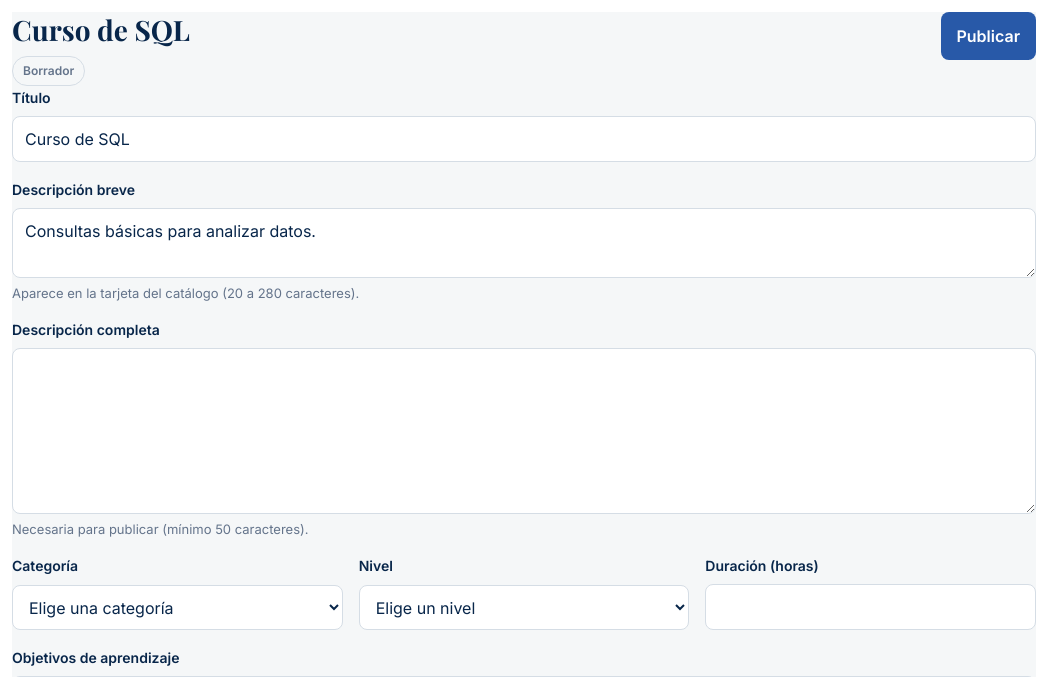
Test: CourseEditor › muestra qué falta cuando el curso no cumple las condiciones de publicación
The width and height of the screenshot is (1048, 677).
Click the button "Publicar": (988, 36) 940,12 -> 1036,60
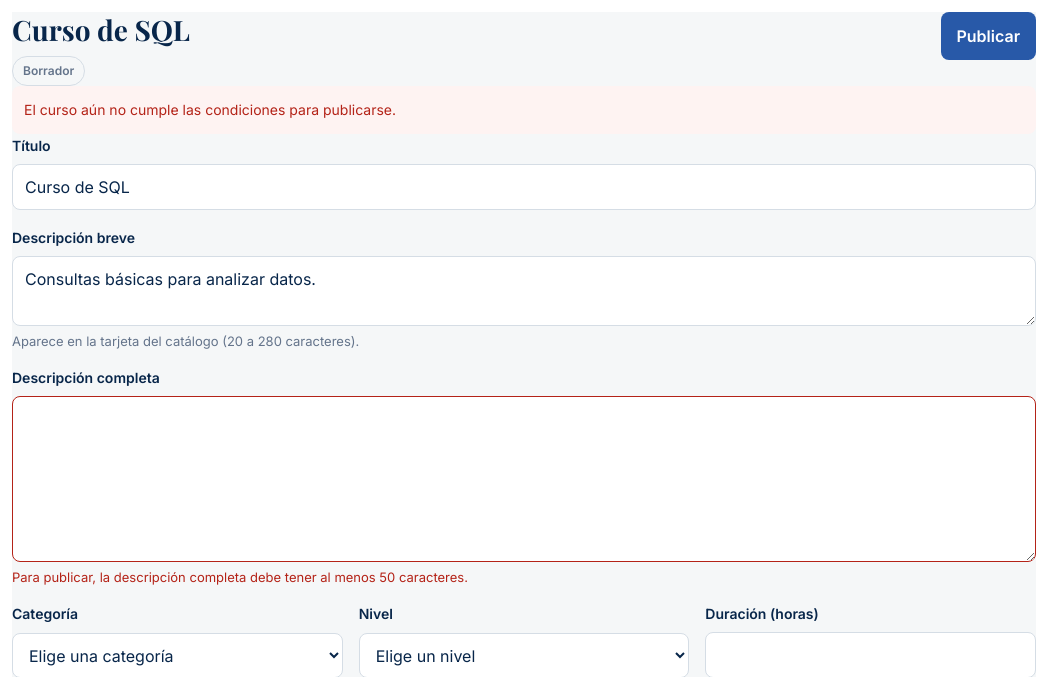
Expected: the message shows "no cumple las condiciones", 24,101 -> 396,118
Expected: the text "al menos 50 caracteres" is shown, 12,569 -> 468,585
